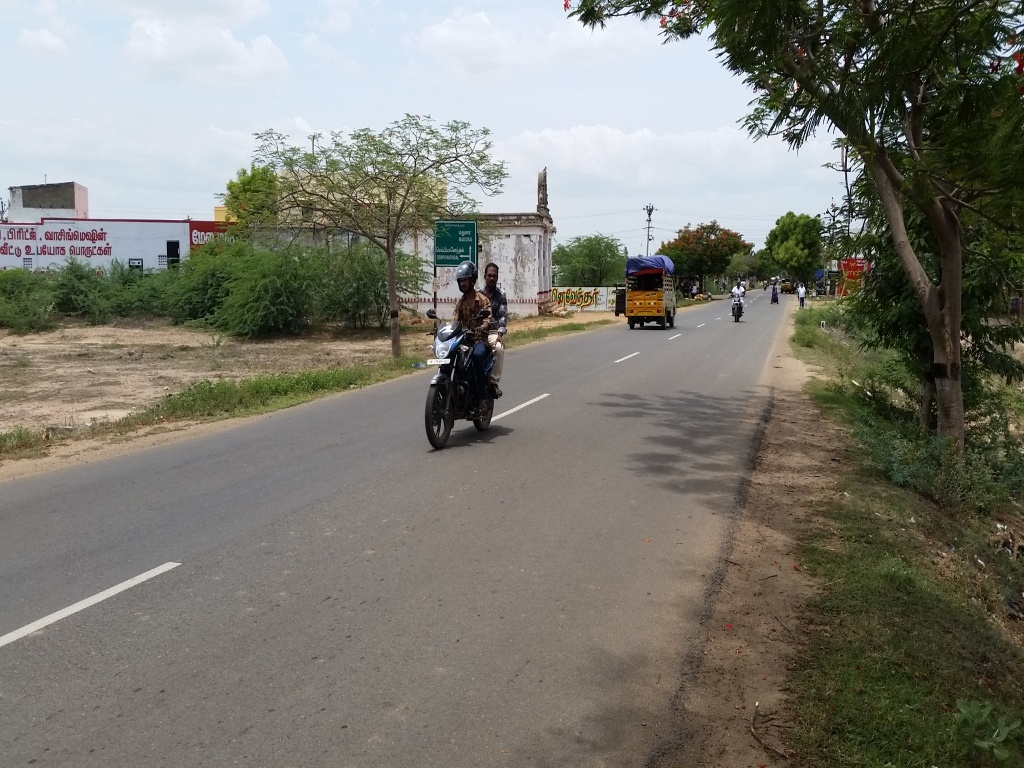biker: (401, 216, 539, 458)
helmet: (448, 252, 478, 309)
nohelmet: (480, 246, 510, 303)
